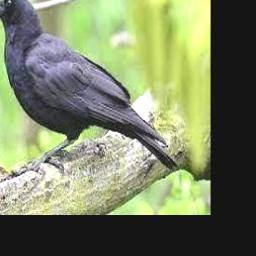Crow: (0, 0, 178, 171)
